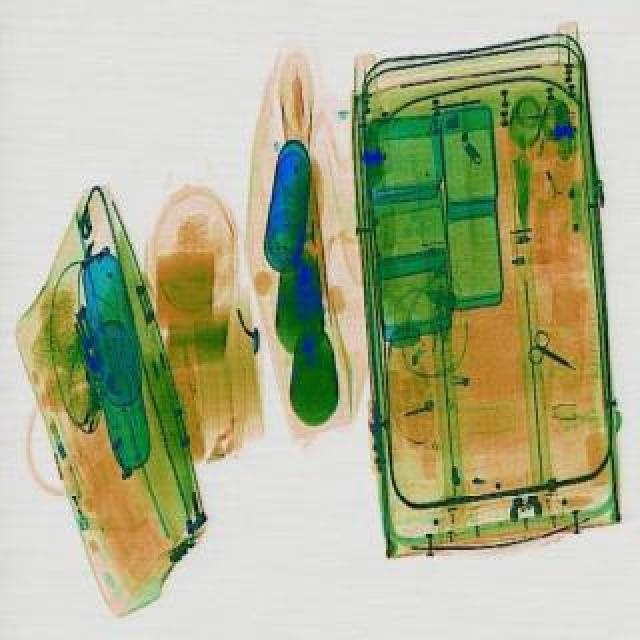pliers: (520, 326, 588, 380)
